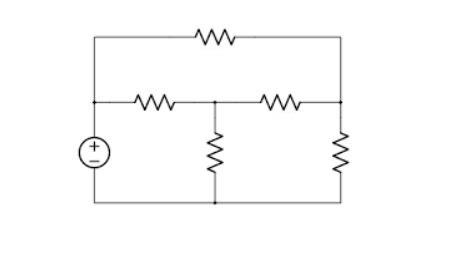resistor: (116, 79, 190, 129), (319, 117, 363, 183), (174, 21, 254, 57), (193, 118, 226, 193), (248, 85, 314, 119)
